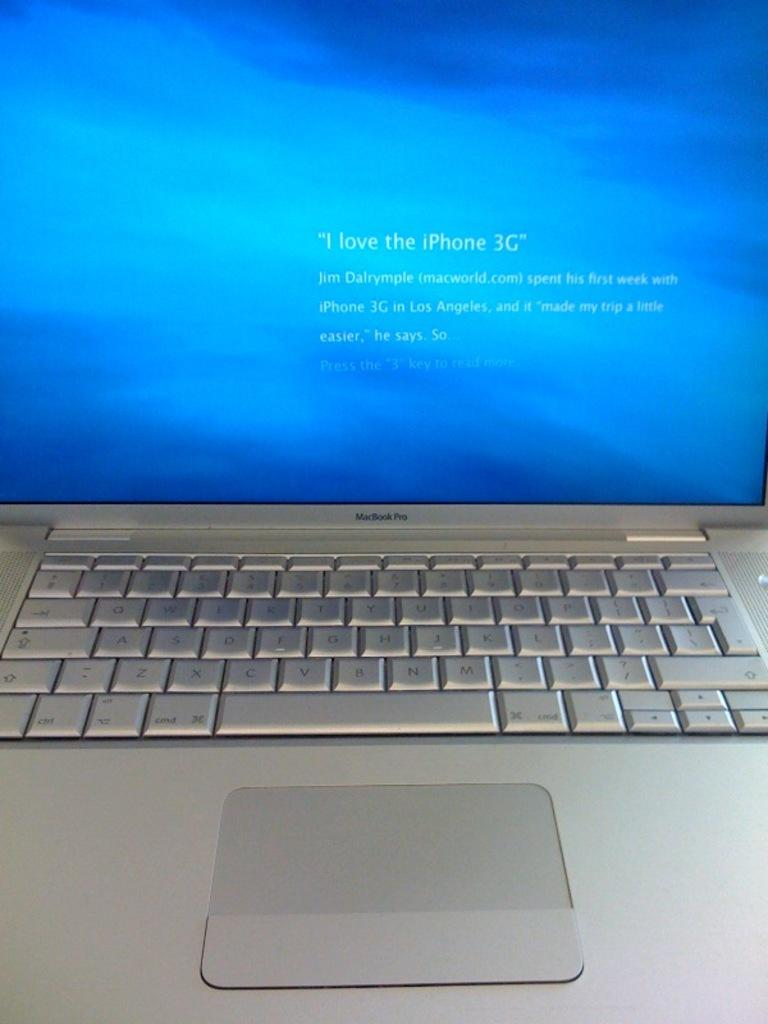Laptop: (0, 1, 767, 1023)
